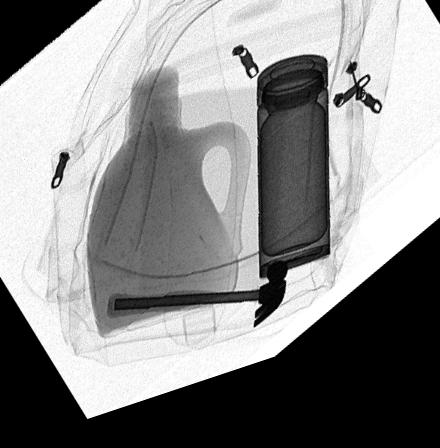Hammer: (106, 278, 288, 346)
